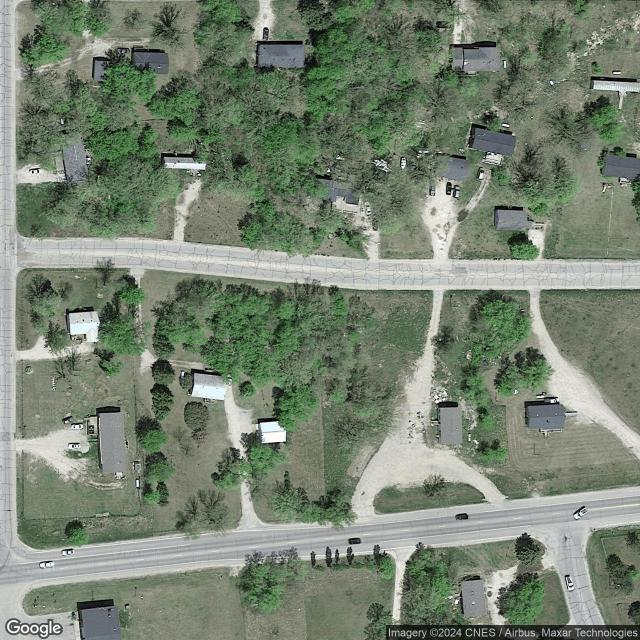Propane: (501, 121, 511, 128), (535, 393, 545, 400), (612, 69, 623, 75), (134, 478, 140, 488), (502, 58, 507, 69), (467, 433, 472, 443), (180, 370, 185, 380), (60, 118, 65, 125)
